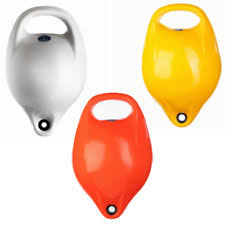buoy: (72, 116, 154, 197)
